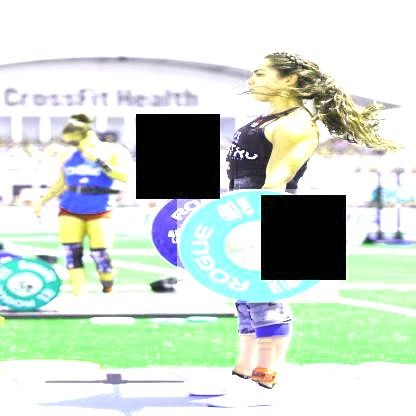barbell: (177, 190, 340, 304)
